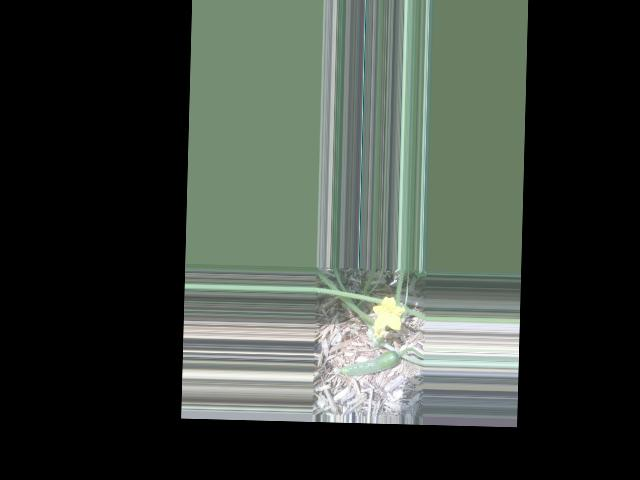cucumber: (335, 348, 400, 377)
